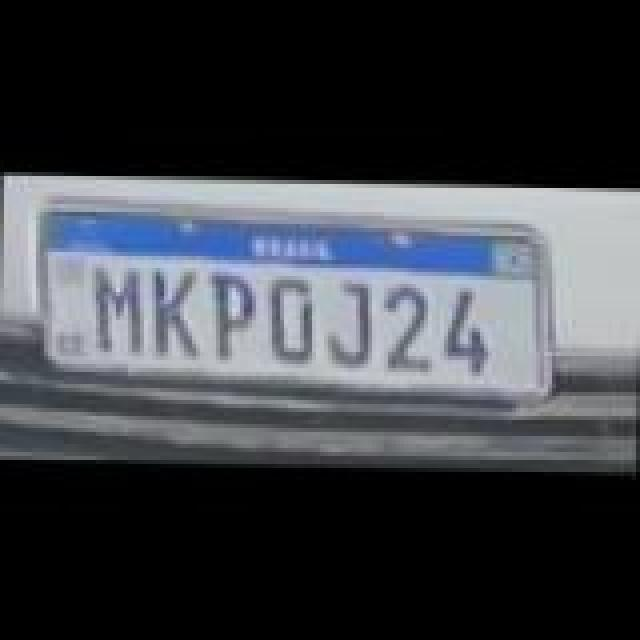2: (380, 282, 436, 366)
4: (442, 284, 494, 364)
D: (264, 276, 320, 360)
J: (324, 276, 380, 360)
K: (138, 266, 198, 354)
M: (92, 264, 148, 352)
P: (208, 270, 264, 354)
